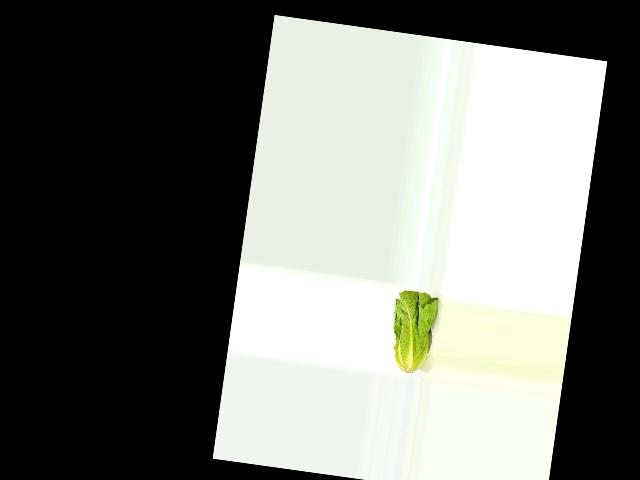lettuce: (384, 288, 440, 376)
